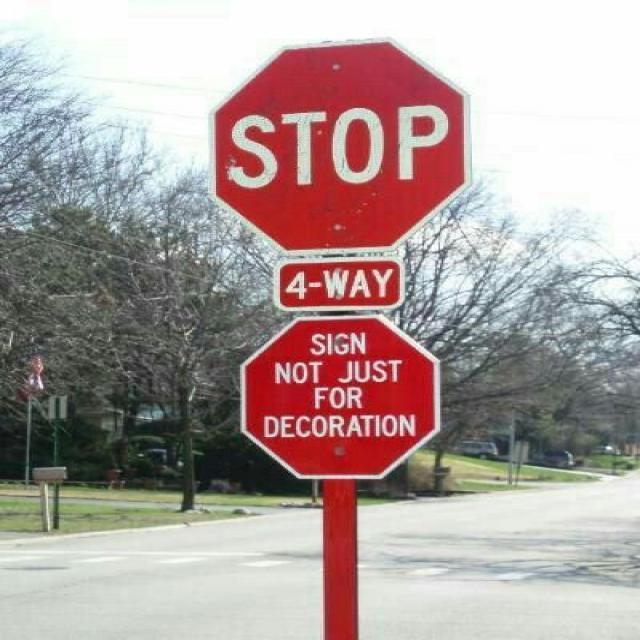stop: (208, 36, 472, 254), (239, 314, 441, 480)
